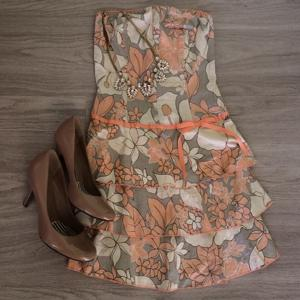C_dress: (54, 8, 286, 290)
S_heels: (18, 115, 119, 263)
